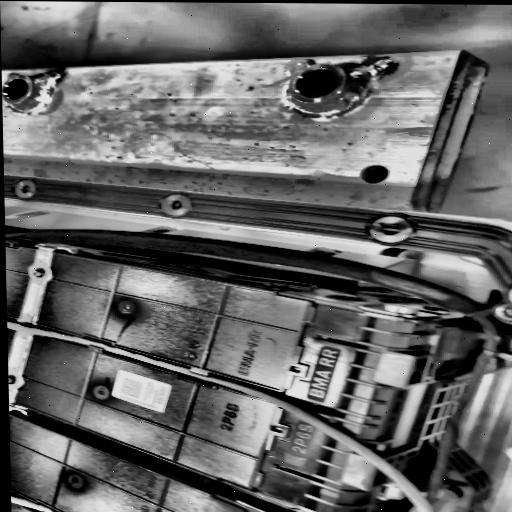high_volt_cable: (7, 313, 453, 512)
low_volt_cable: (5, 222, 512, 490)
